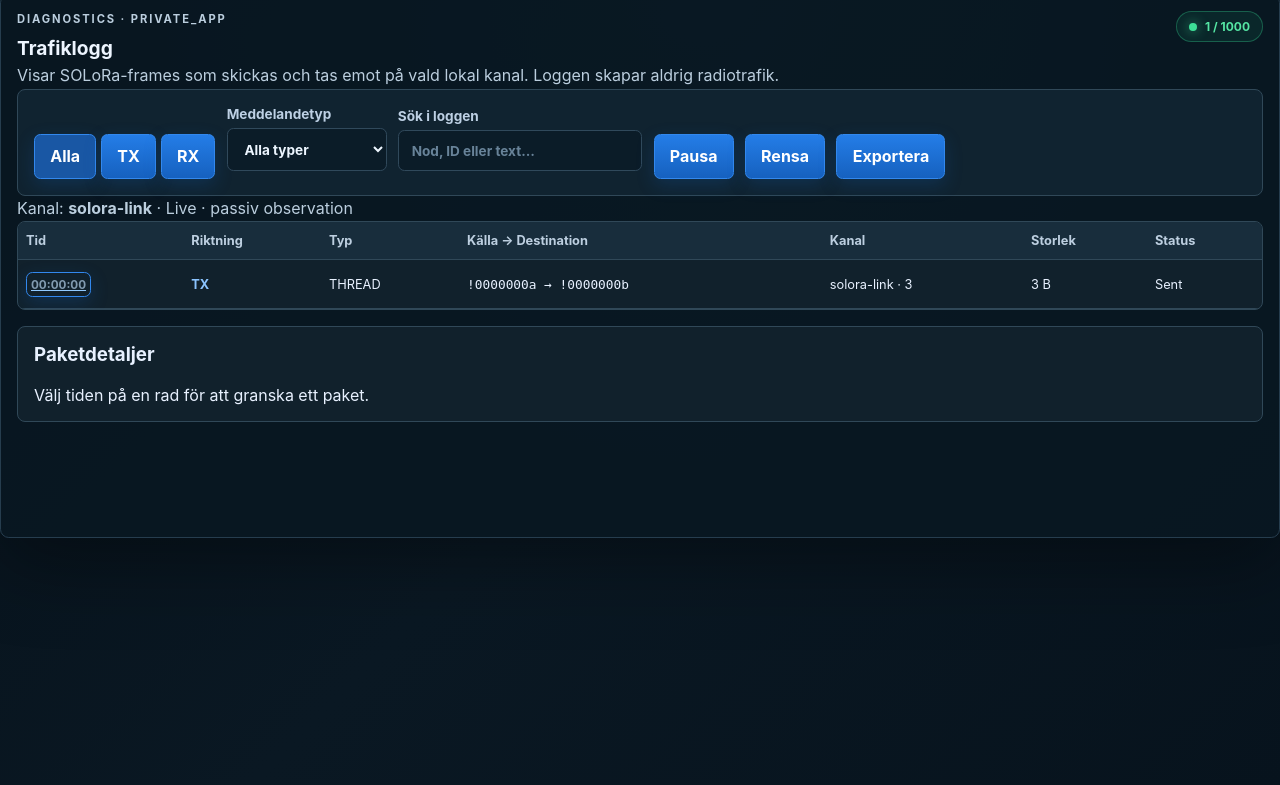
Test: Traffic Log › opens one passive stream, renders data and parses exact HEX with offsets
Step 1. Click the button named "Öppna paket 1" → (58, 284), box [26,272,91,297]
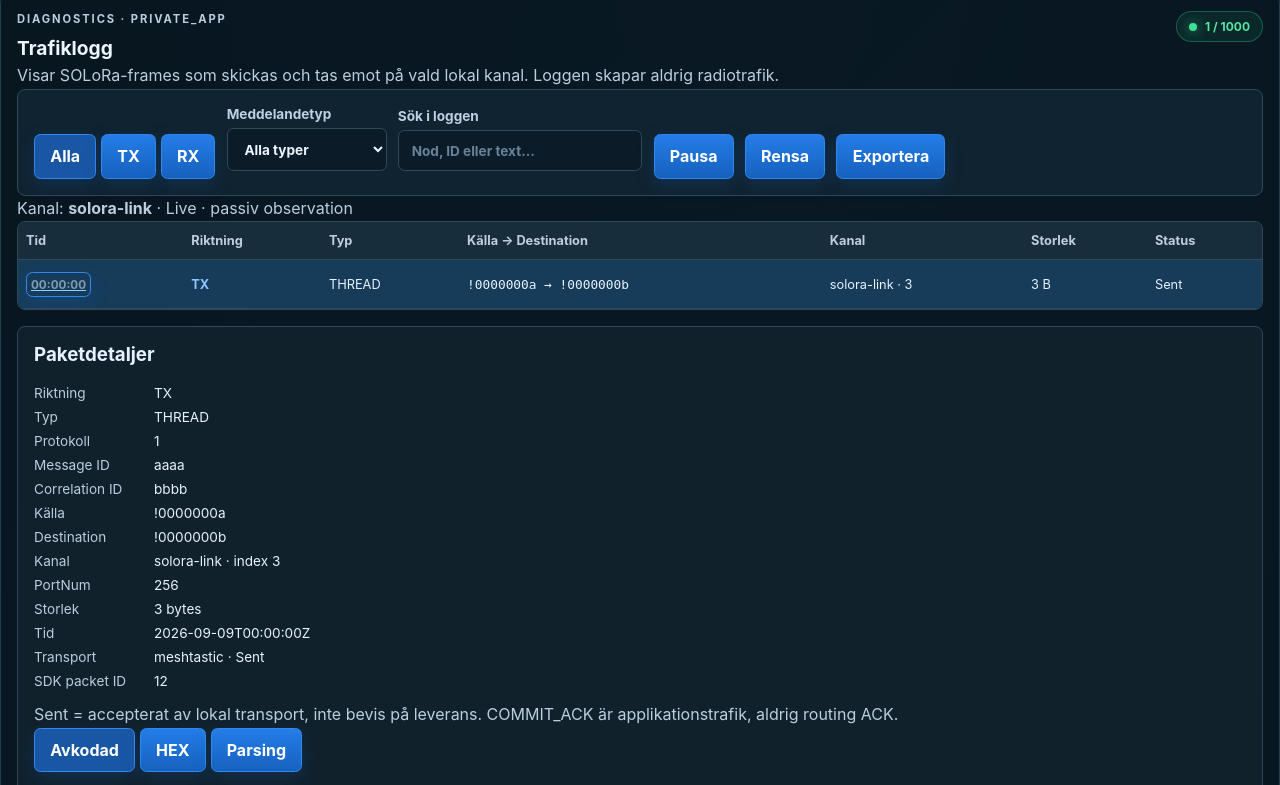
Step 2. Click the button "HEX" → (173, 750), box [140,728,206,772]
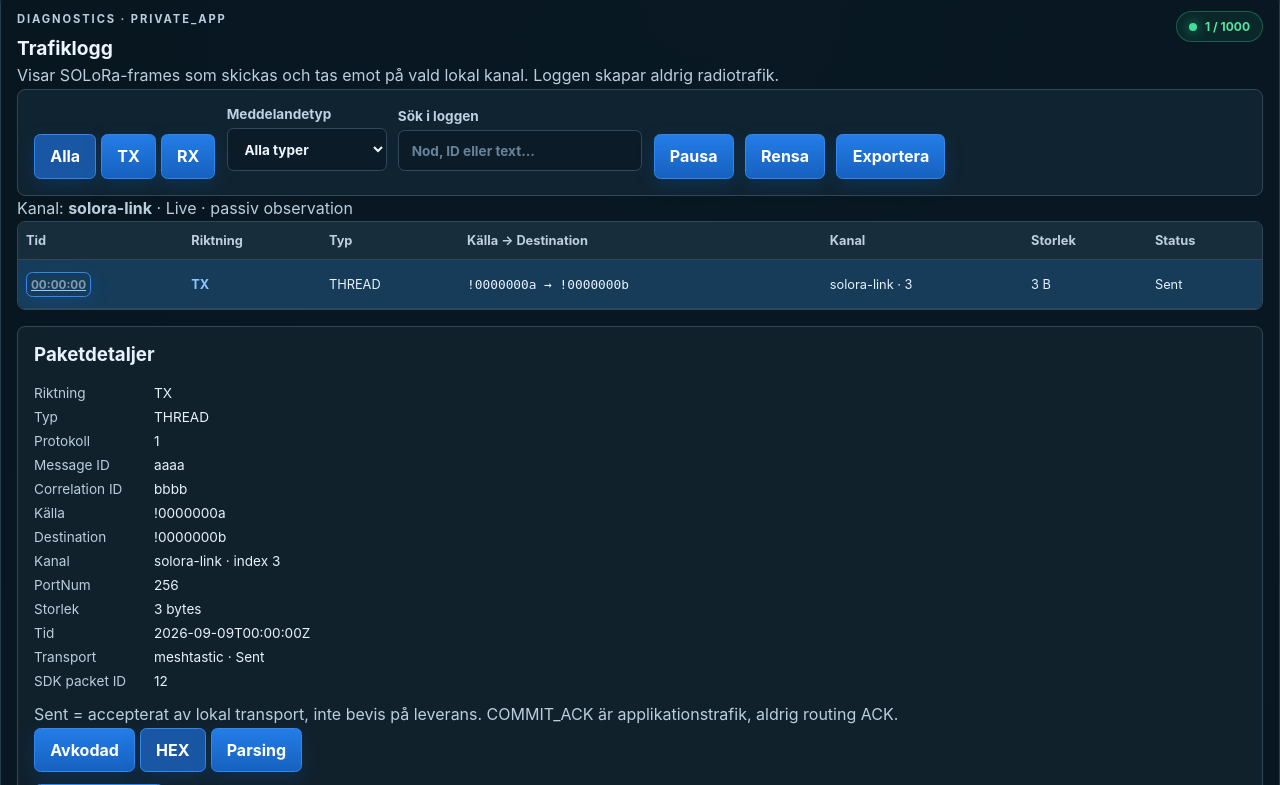
Step 3. Click the button "Parsing" → (256, 750), box [210,728,302,772]
(page scrolled)
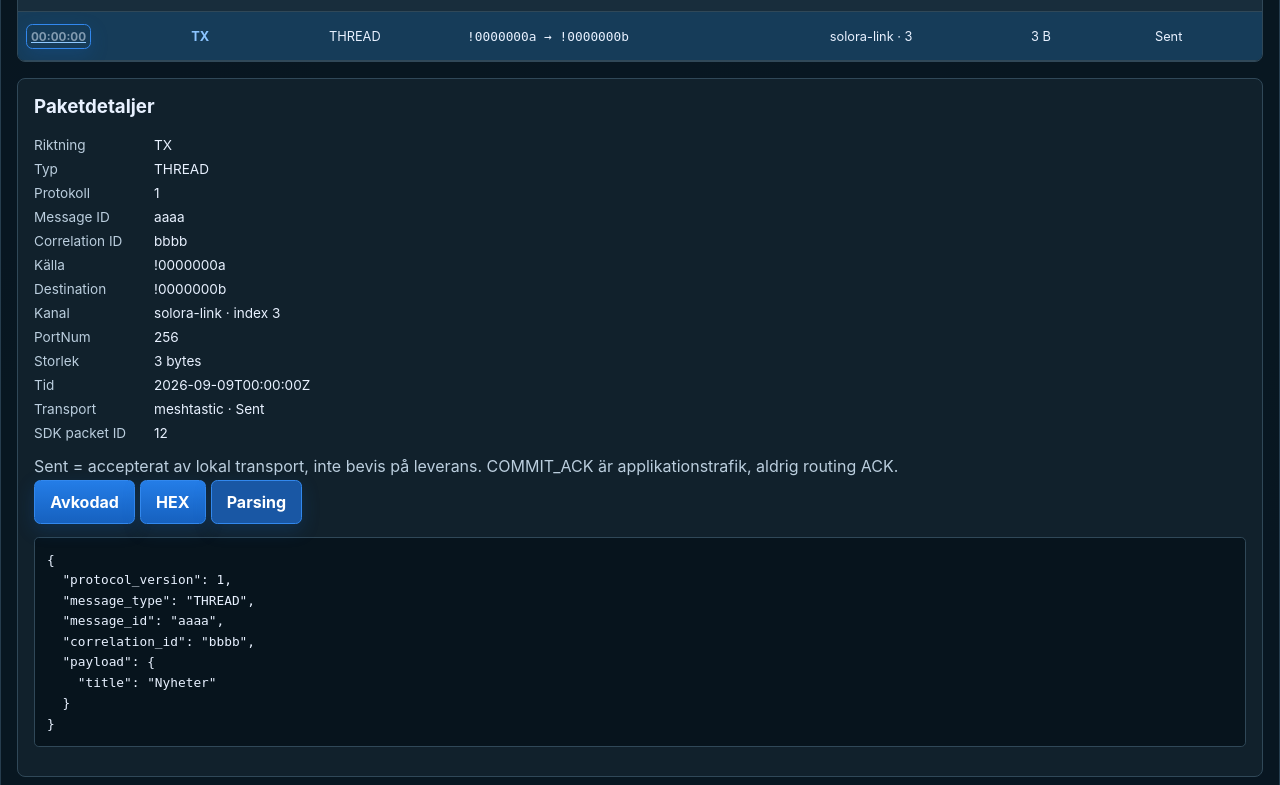
Result: the text named "Parsing" shows "protocol_version" at [47,552,255,731]
